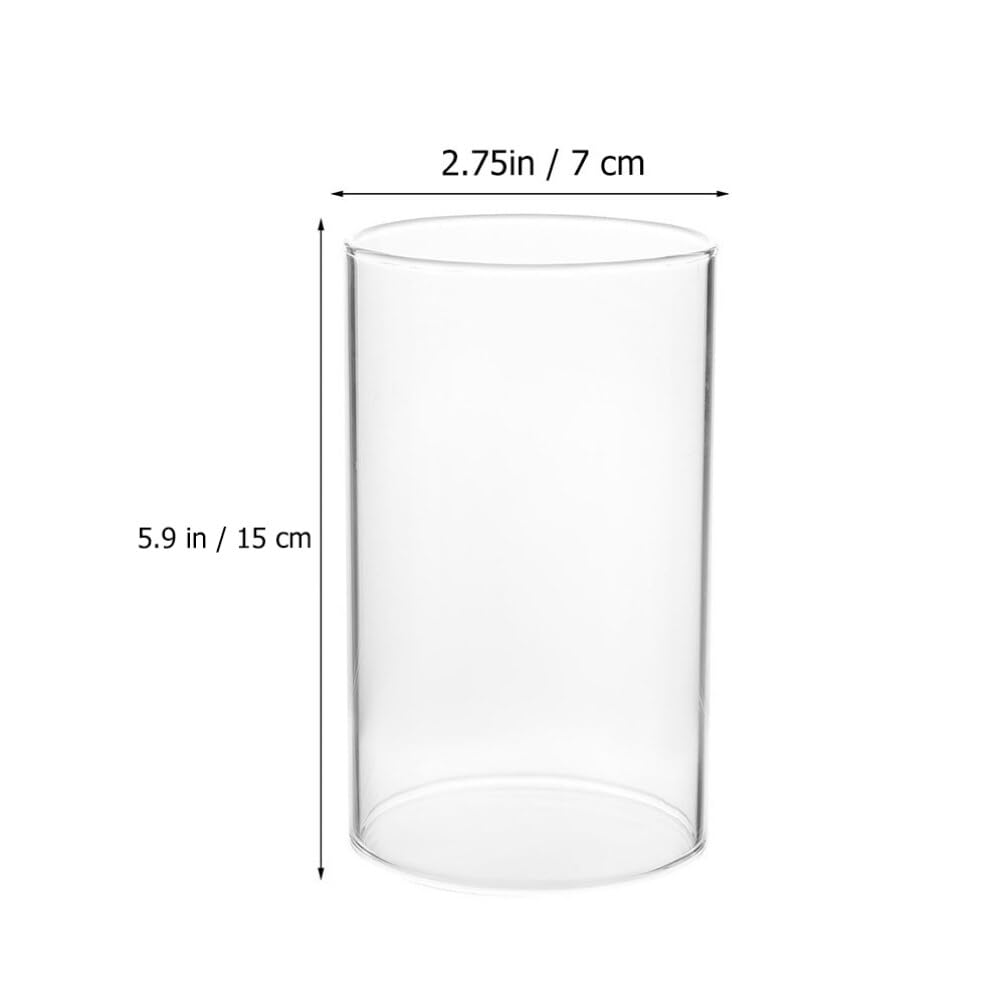/: (553, 148, 559, 181)
2.75in: (442, 149, 534, 176)
